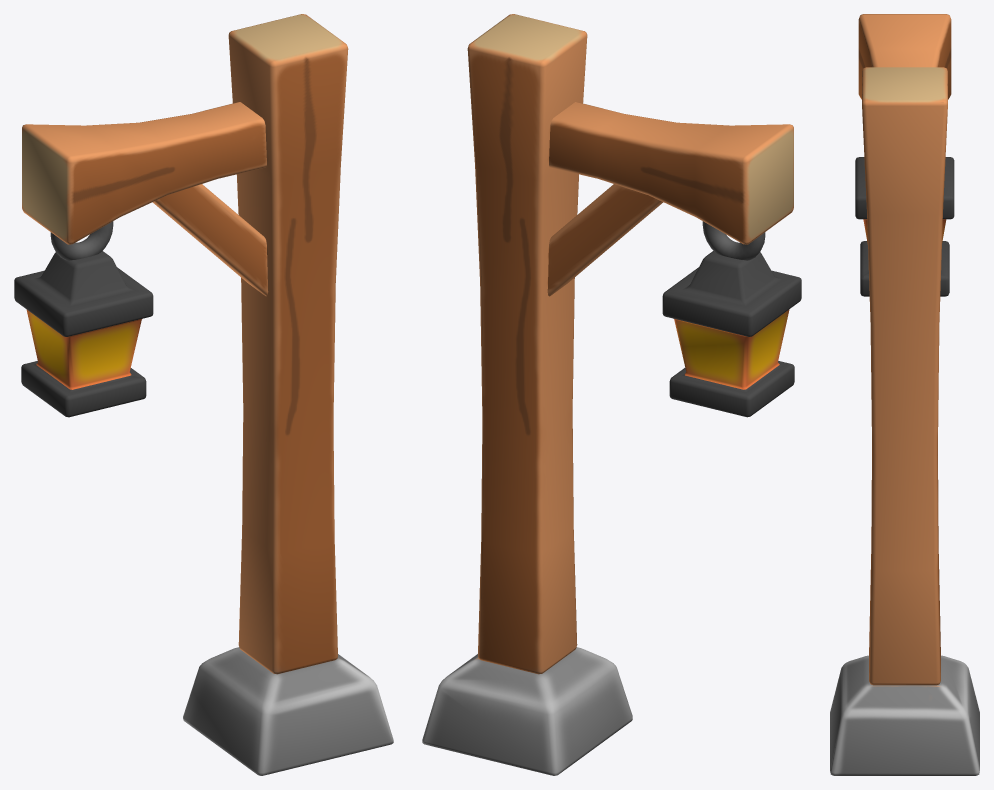
The model's file is street lamp.fbx.
3 renders of one model, left to right at view 1: azimuth 30°, elevation 25°; view 2: azimuth 150°, elevation 25°; view 3: azimuth 270°, elevation 25°, orthographic. The views are drawn at different scales.
Visible parts, largest first — view 1: lamp.007; view 2: lamp.007; view 3: lamp.007.
Boxes of the visible parts, bbox=[...] form: lamp.007: bbox=[14, 14, 393, 775]; lamp.007: bbox=[422, 14, 801, 775]; lamp.007: bbox=[830, 14, 979, 775].
Size of the model in its own units: 98.26 by 205 by 42.12.
Materials: 2 (1 with a texture image).
